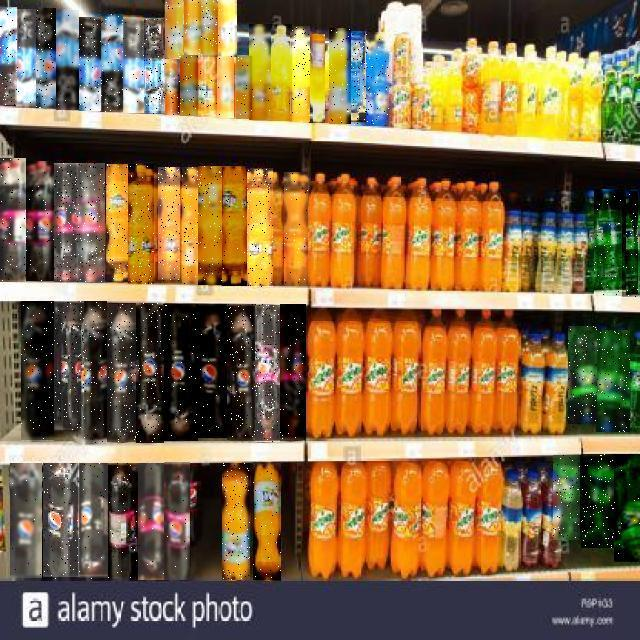Drinks: (164, 304, 198, 441), (21, 302, 54, 442), (43, 464, 79, 580), (196, 304, 227, 438), (78, 302, 107, 444), (107, 304, 136, 442), (136, 303, 164, 443), (54, 302, 84, 430), (227, 305, 255, 441), (10, 464, 42, 580), (254, 304, 280, 442), (280, 305, 306, 441), (108, 463, 138, 579), (78, 464, 108, 580), (596, 330, 630, 432), (594, 190, 626, 296), (26, 161, 54, 281), (253, 462, 281, 581), (77, 163, 105, 282), (222, 463, 250, 580), (0, 158, 26, 282), (129, 164, 155, 284), (581, 455, 614, 549), (247, 168, 273, 287), (164, 462, 190, 580), (138, 463, 164, 580), (222, 166, 247, 286), (198, 166, 222, 285), (54, 163, 78, 282), (568, 327, 597, 425), (614, 455, 640, 563), (284, 172, 308, 286), (106, 164, 128, 282), (158, 168, 180, 282), (554, 455, 582, 540), (56, 10, 79, 110), (100, 14, 123, 112), (270, 24, 292, 121), (329, 28, 351, 124), (249, 25, 271, 121), (143, 18, 165, 114), (348, 32, 370, 126), (122, 19, 144, 113), (79, 17, 101, 111), (36, 9, 56, 109), (16, 10, 36, 108), (290, 27, 310, 123), (369, 32, 389, 126), (182, 167, 198, 284), (622, 191, 638, 297), (0, 7, 17, 105), (309, 34, 325, 123), (198, 55, 217, 117), (180, 55, 198, 116), (218, 0, 237, 57), (217, 56, 234, 118), (165, 0, 183, 58), (200, 0, 218, 57), (236, 56, 252, 119), (184, 0, 201, 55), (165, 59, 181, 115)
